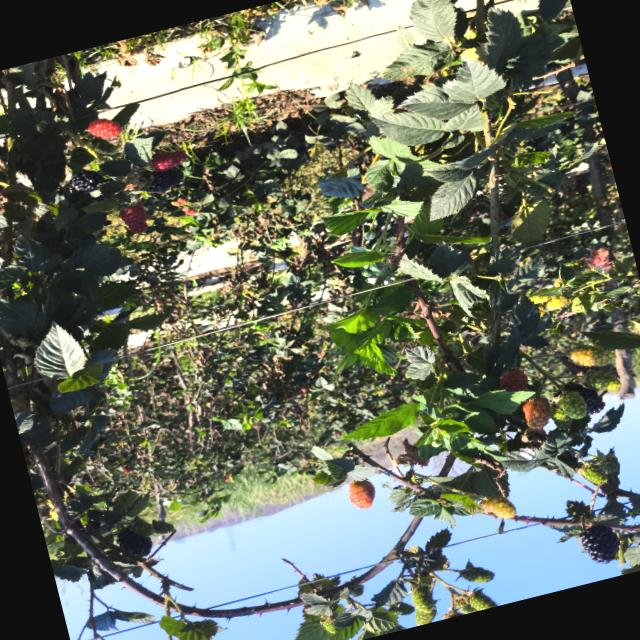maduro: (579, 524, 618, 563), (564, 382, 605, 414), (147, 168, 183, 192), (71, 170, 104, 192)
naranja: (522, 397, 550, 429), (119, 204, 147, 233), (348, 480, 375, 508), (151, 151, 186, 171), (498, 368, 528, 391), (87, 118, 121, 138)
verde: (569, 346, 614, 366), (481, 496, 516, 518), (586, 370, 620, 392), (558, 392, 586, 418), (578, 466, 606, 485), (550, 407, 571, 429)
